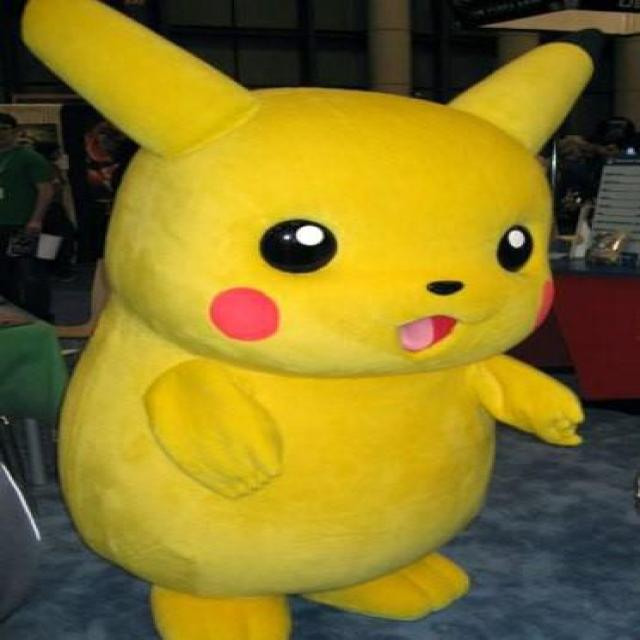pikachu: (16, 10, 597, 638)
